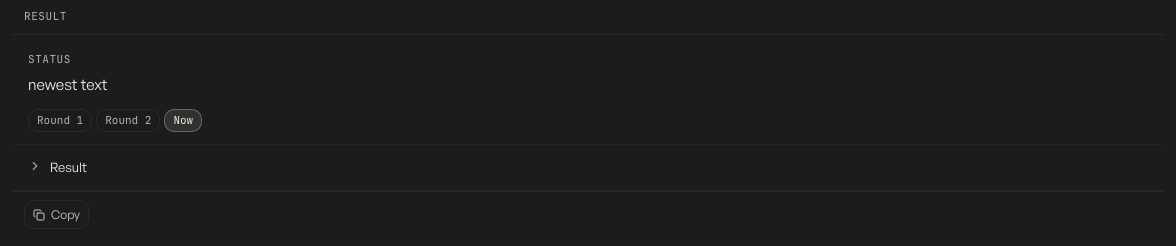
Test: ResultDocPanel › jumps back to the live file, which is not the last snapshot
Expected: the text "newest text" is shown, top-left (28, 75), bottom-right (107, 94)
Click the button named "Older version (round 1)". click: (60, 120)
box: top-left (28, 109), bottom-right (92, 132)
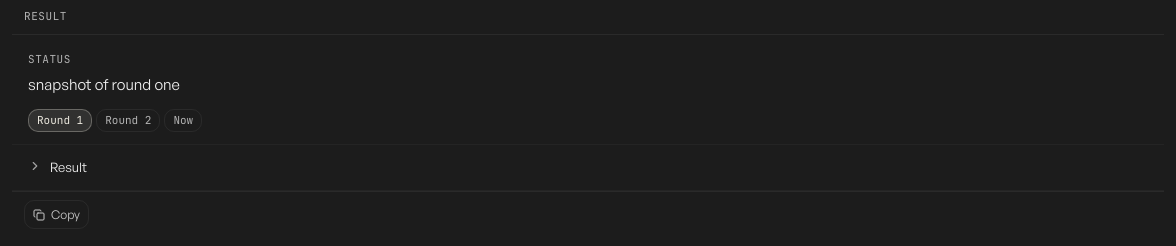
Click the button with test id "result-newest". click: (183, 120)
box: top-left (164, 109), bottom-right (202, 132)
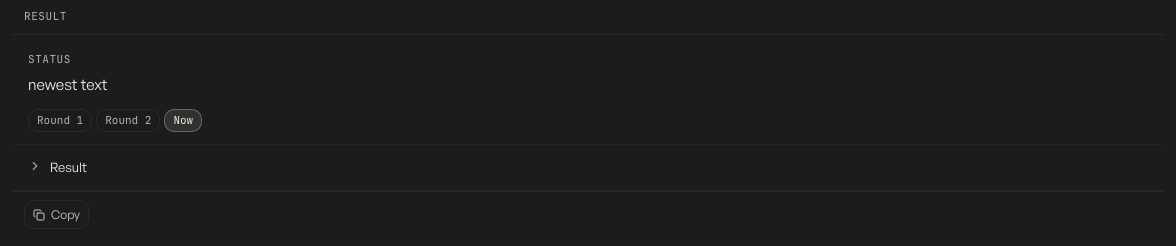
Expected: the text with test id "result-verdict" reads "newest text", top-left (28, 75), bottom-right (107, 94)
